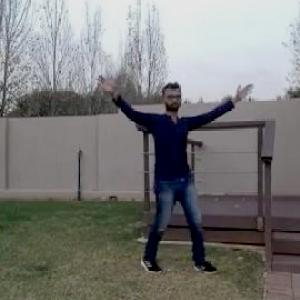takeoff: (95, 77, 252, 280)
